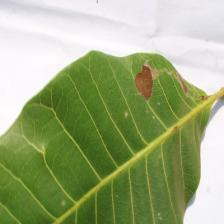leaf miner: (0, 48, 223, 224)
